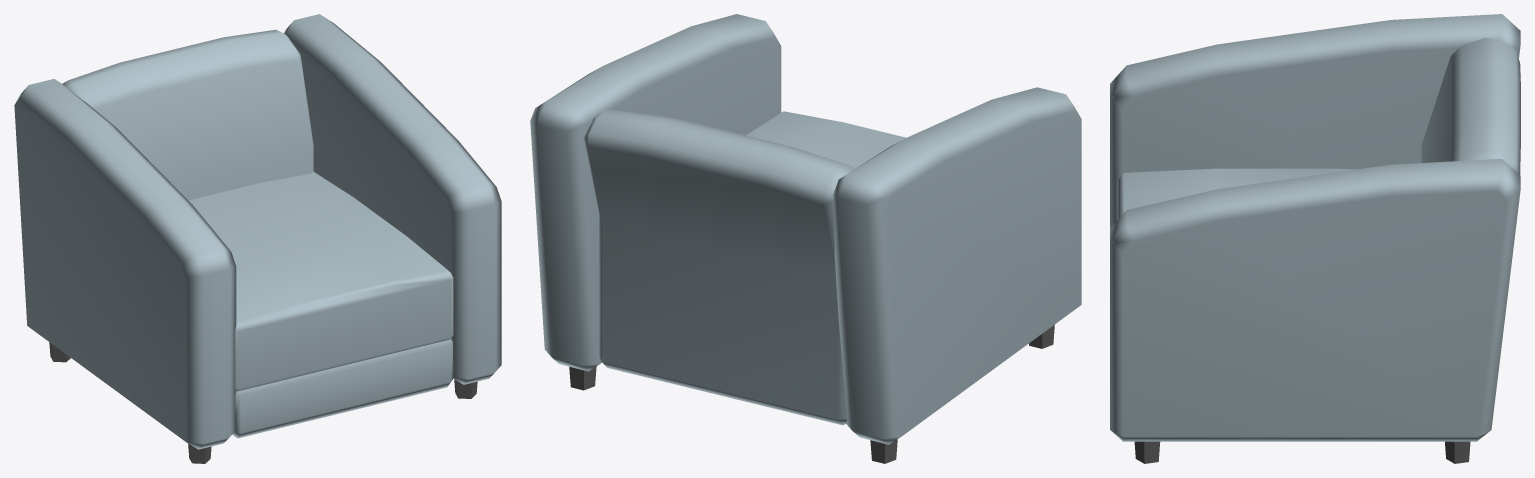
File: armchair_008.glb
3 renders of one model, left to right at view 1: azimuth 30°, elevation 25°; view 2: azimuth 150°, elevation 25°; view 3: azimuth 270°, elevation 25°, orthographic. The views are drawn at different scales.
Visible parts, largest first — view 1: armchair_008; view 2: armchair_008; view 3: armchair_008.
Part boxes in pixels (x1,y1,x2,y2): armchair_008: (14, 14, 501, 463); armchair_008: (530, 14, 1081, 463); armchair_008: (1110, 14, 1520, 463).
Bounding box in the file's own units: 0.8579 × 0.6868 × 0.8659.
1 material, 1 textured.
